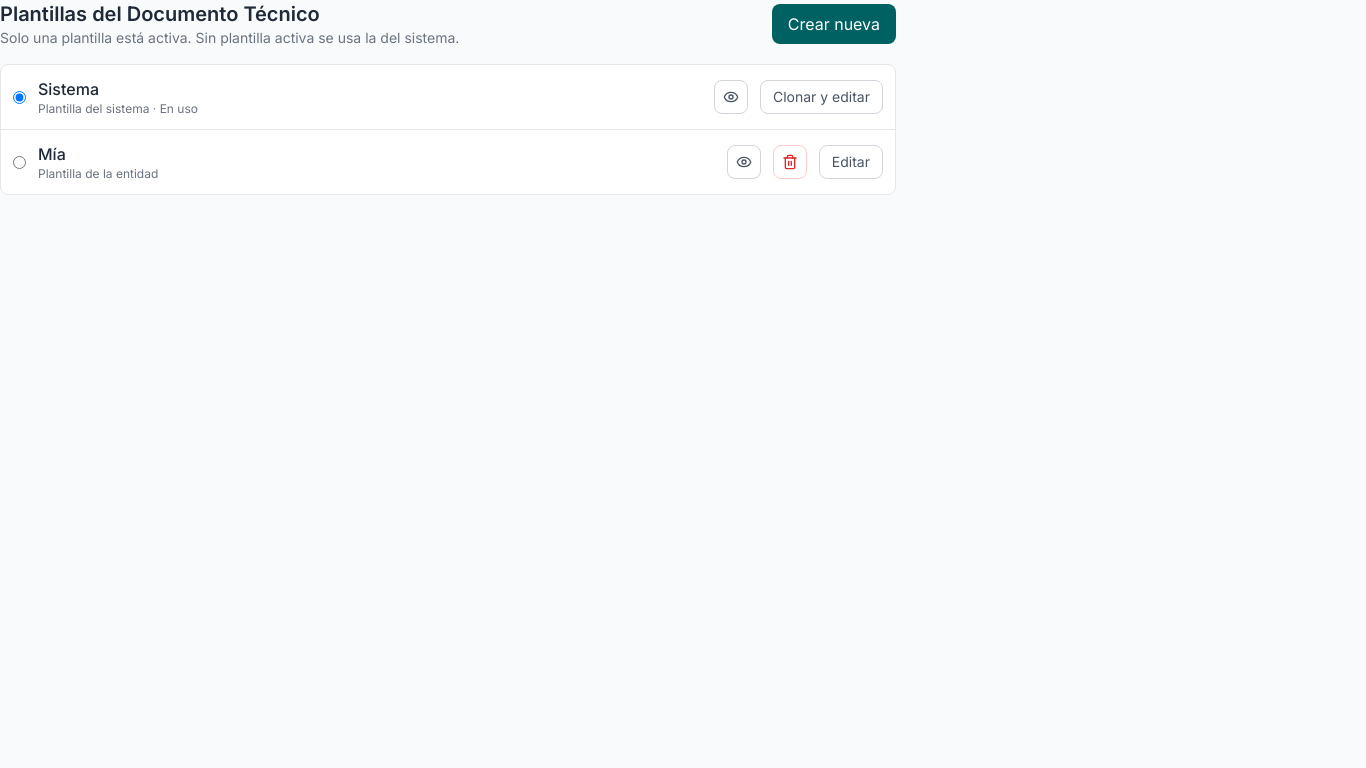
Test: DocumentTemplatesPage › abre vista previa con el HTML de la plantilla
Click the button named "Vista previa Mía": (744, 162) [727,145,761,179]
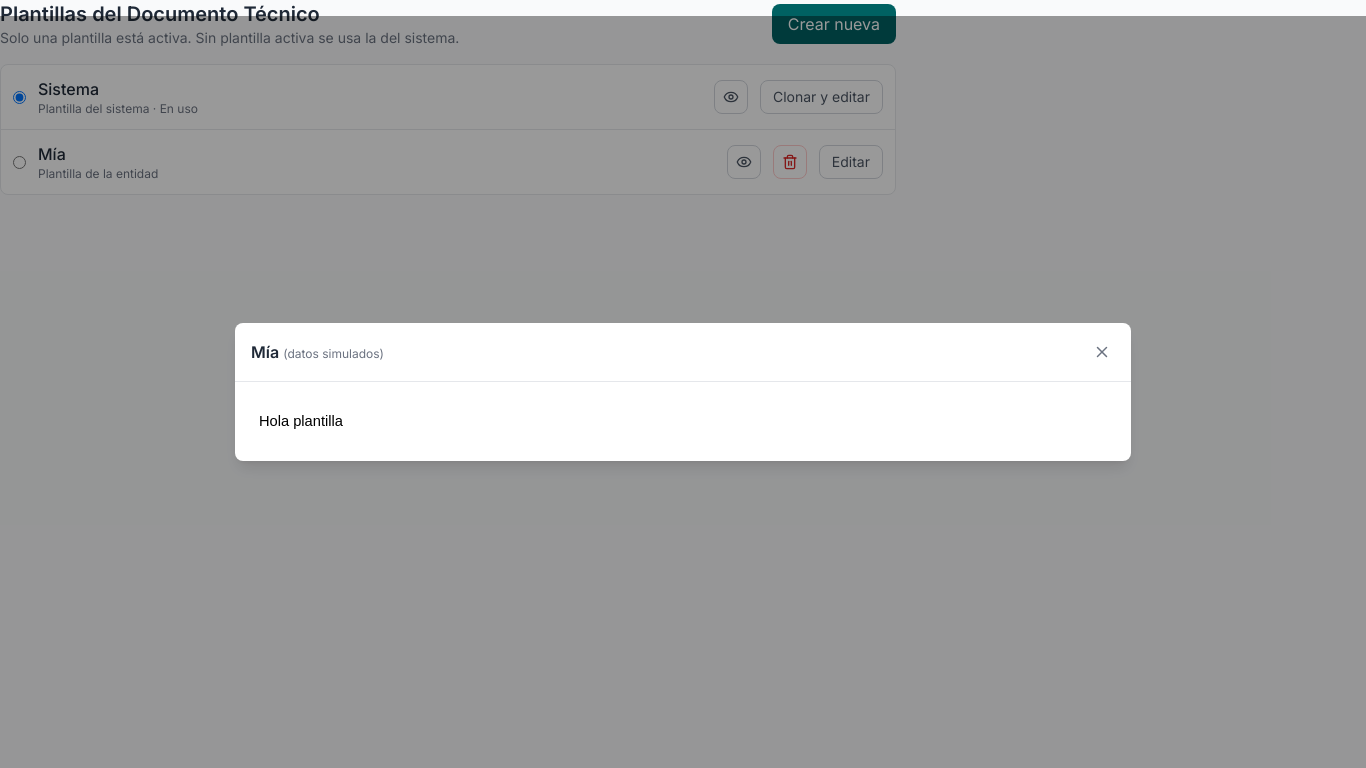
Result: the element with test id "template-preview-modal" reads "Hola plantilla" at [259,413,343,429]
